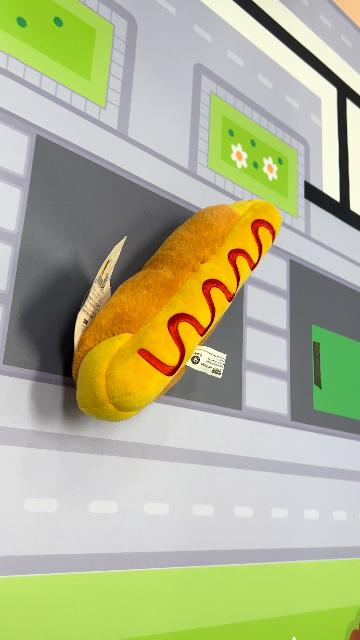hotdog: (72, 198, 284, 424)
